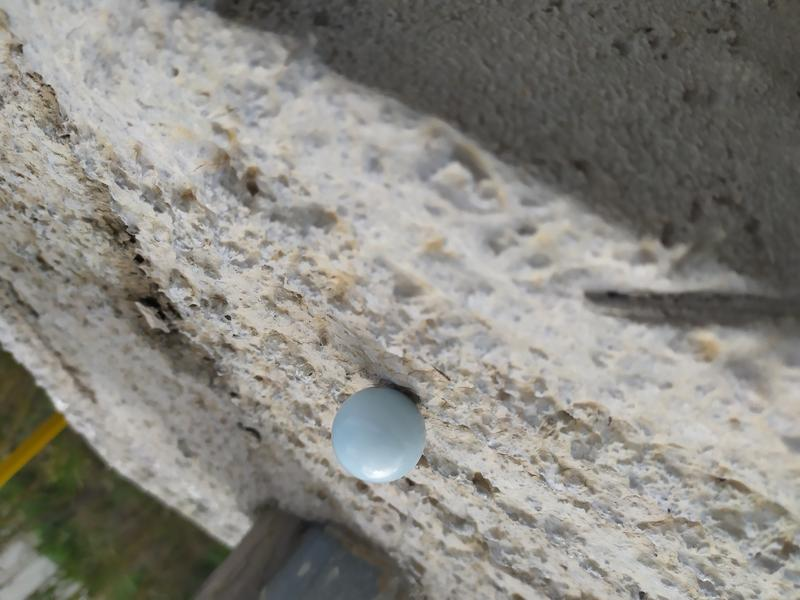Warning: (329, 381, 430, 487)
